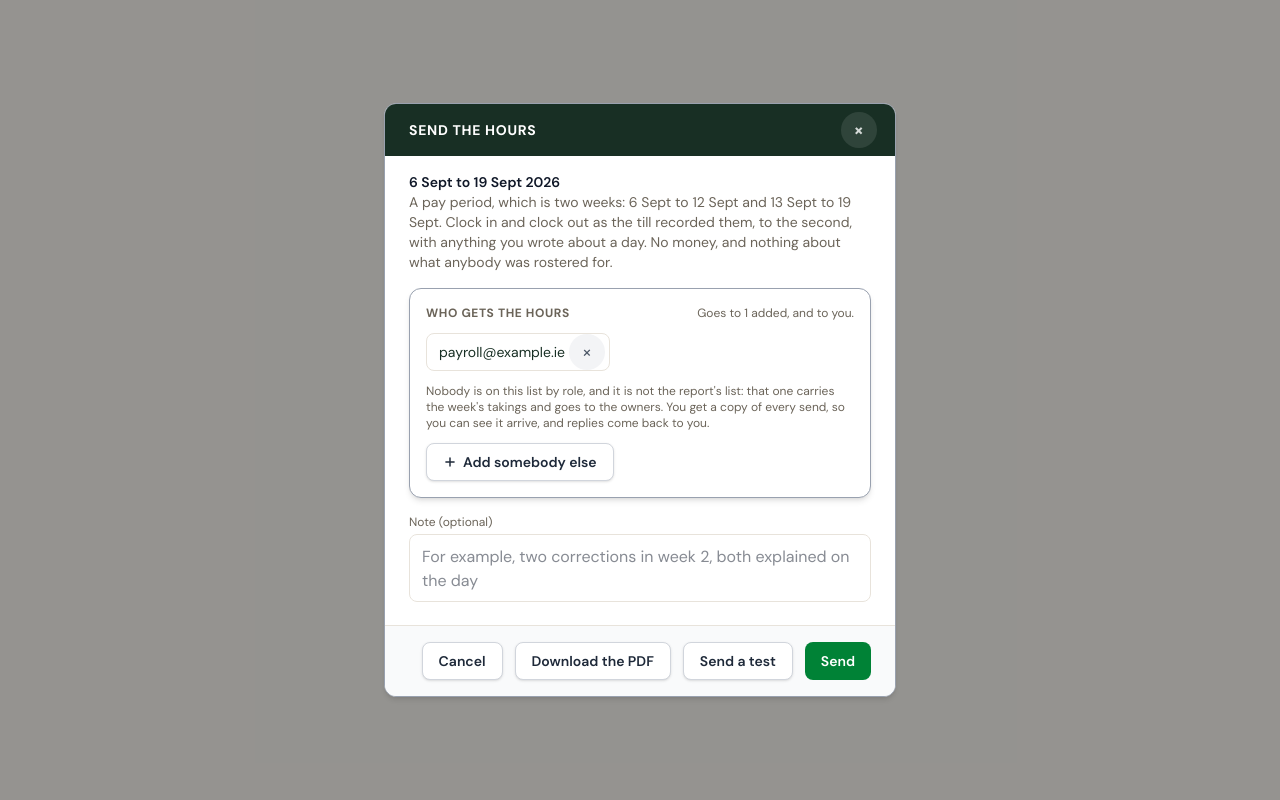
keeping the list › puts the list back when it could not be kept
Click the button named "Remove payroll@example.ie from the list". click: (587, 352)
box: [569, 334, 605, 370]
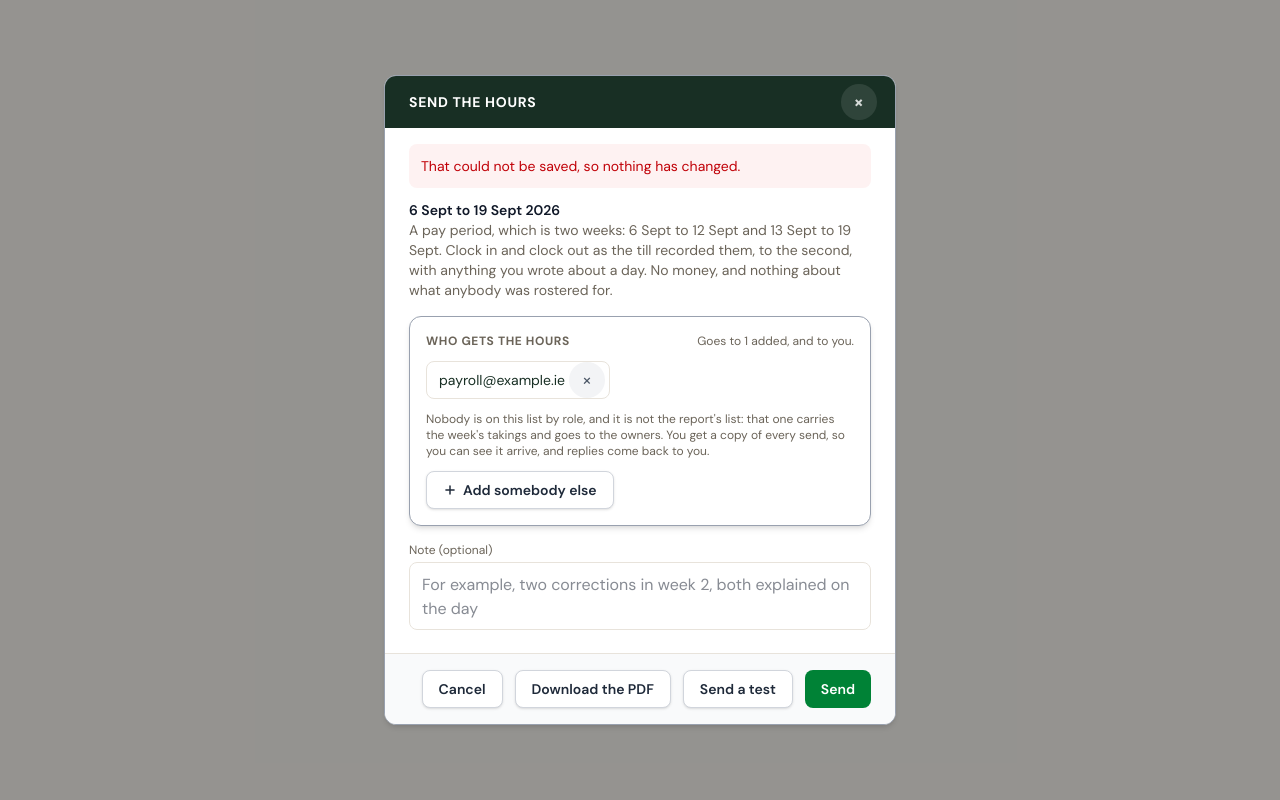
Expected: the text "payroll@example.ie" is shown, [439, 370, 565, 390]
Now the text "That could not be saved, so nothing has changed." is shown, box [409, 144, 871, 188]
